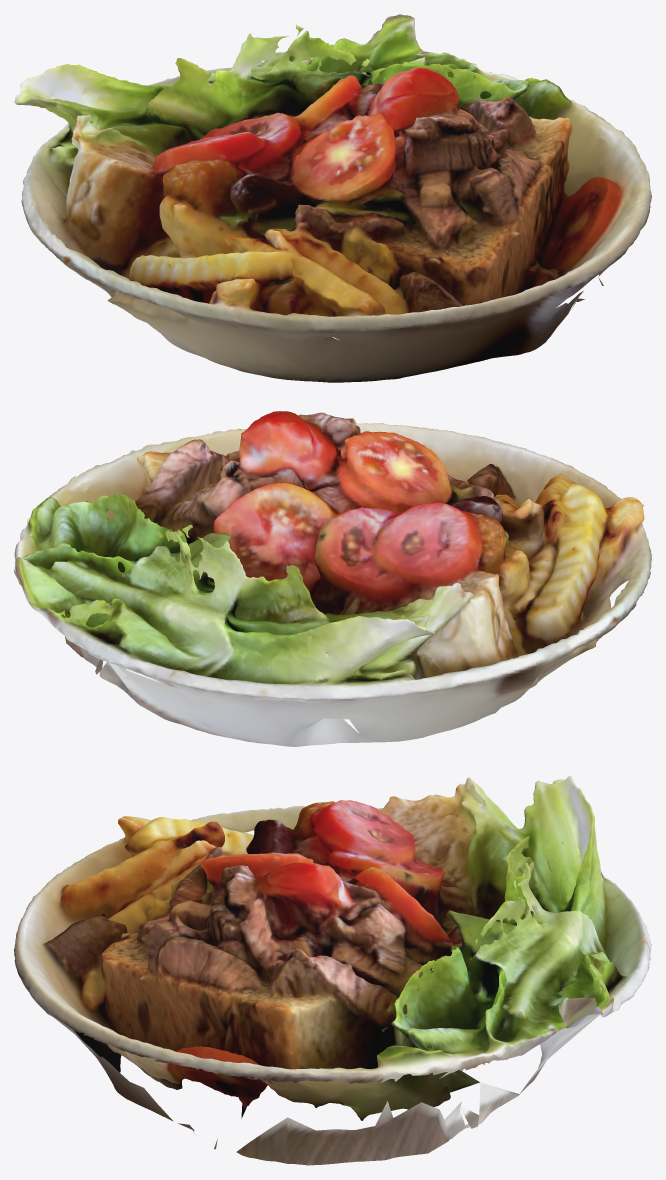
File: Steak Sandwich 3D Model.glb
3 views of the same model, one above another, from view 1: azimuth 30°, elevation 25°; view 2: azimuth 150°, elevation 25°; view 3: azimuth 270°, elevation 25° (orthographic).
Parts seen in each view (by area): view 1: mesh_main_0 (×2); view 2: mesh_main_0 (×2); view 3: mesh_main_0 (×2).
Part boxes in pixels (bbox=[...]): mesh_main_0 (×2): bbox=[14, 14, 651, 382]; mesh_main_0 (×2): bbox=[14, 411, 651, 746]; mesh_main_0 (×2): bbox=[14, 775, 651, 1165].
Bounding box in the file's own units: 0.2312 × 0.086 × 0.2305.
Materials: 1 (1 with a texture image).
